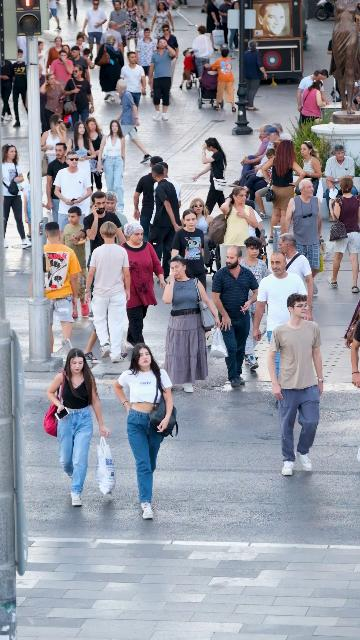person: (113, 342, 174, 520), (268, 293, 324, 476), (46, 348, 110, 507), (162, 256, 220, 393), (252, 251, 314, 379), (211, 246, 260, 389), (85, 221, 131, 363), (120, 223, 166, 349), (43, 222, 82, 355), (280, 178, 324, 293), (147, 164, 182, 284), (240, 236, 270, 371), (267, 140, 306, 243), (327, 177, 360, 293), (220, 186, 260, 272), (61, 206, 91, 317), (276, 233, 315, 318), (234, 125, 280, 194), (115, 79, 152, 164), (54, 151, 92, 232), (0, 144, 30, 246), (171, 209, 208, 290), (133, 155, 163, 250), (96, 120, 126, 215), (192, 137, 226, 216), (228, 124, 270, 187), (82, 192, 122, 255), (148, 38, 178, 121), (324, 145, 354, 222), (67, 122, 96, 197), (247, 149, 277, 218), (95, 34, 125, 102), (45, 143, 70, 223), (206, 48, 236, 112), (64, 65, 95, 126), (241, 40, 267, 111), (41, 114, 70, 176), (40, 74, 66, 136), (82, 0, 108, 62), (97, 192, 127, 245), (192, 26, 215, 95), (120, 51, 146, 108), (84, 117, 103, 193), (344, 300, 360, 390), (10, 49, 28, 127), (300, 80, 329, 126), (190, 198, 214, 252), (298, 141, 322, 195), (296, 70, 325, 113), (149, 1, 175, 48), (136, 27, 158, 82), (110, 1, 130, 58), (124, 0, 144, 57), (101, 21, 125, 68), (159, 162, 182, 210), (18, 174, 32, 250), (159, 25, 179, 68), (50, 51, 74, 84), (179, 47, 196, 89), (46, 37, 65, 74), (205, 0, 221, 35), (250, 207, 267, 239), (255, 166, 277, 190), (73, 32, 92, 57), (36, 40, 48, 78), (39, 74, 47, 113), (137, 0, 150, 22), (82, 48, 95, 69), (73, 37, 86, 56), (163, 0, 176, 13), (173, 0, 188, 11), (200, 0, 207, 13)
